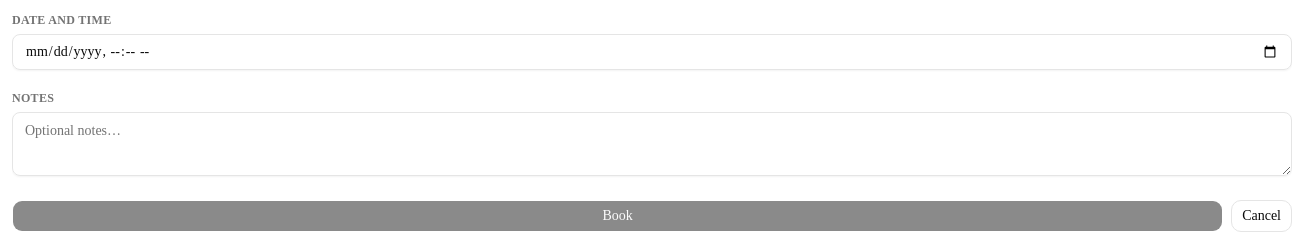
AppointmentForm › Book is disabled until a date-time is entered
Expected: the button "Book" is disabled, [12,200,1223,232]
Step 1. Type "2026-07-10T14:30" into the field labelled "Date and time" → (652, 52), box [12,34,1292,70]
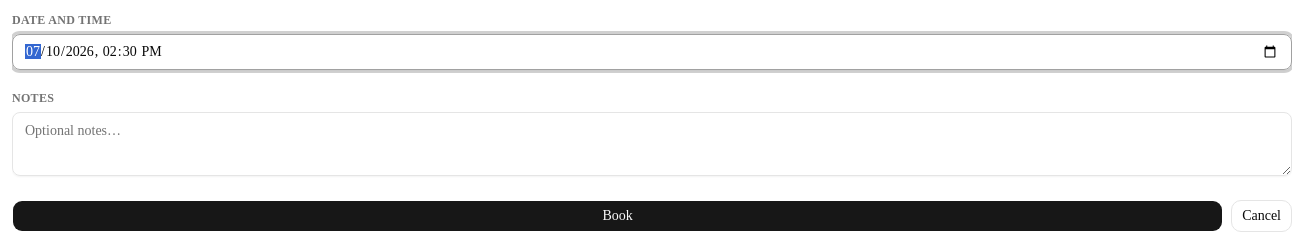
Now the button "Book" is enabled, box [12,200,1223,232]
